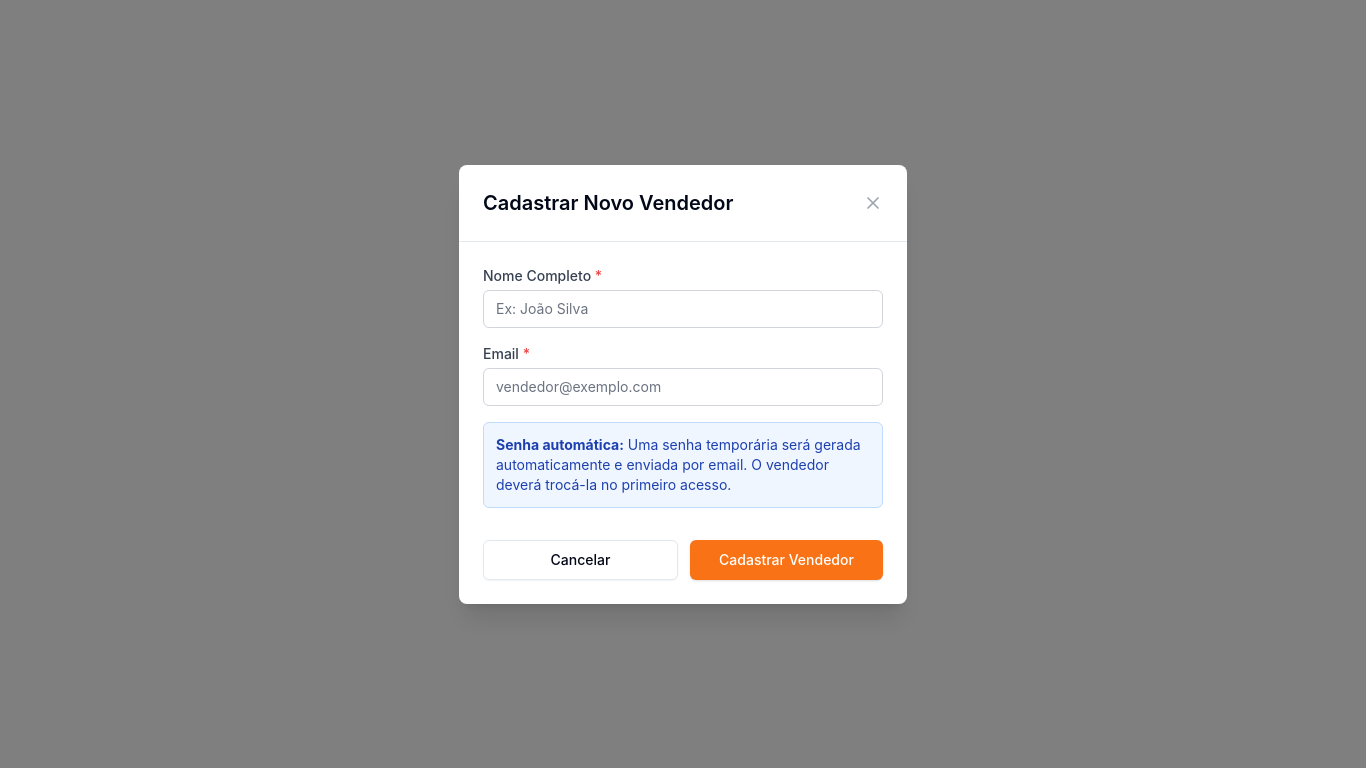
Scenario: VendedorForm › deve exibir erro quando nome tem menos de 2 caracteres
This screenshot has width=1366, height=768.
Type "A" into the field labelled "Nome Completo *". click: point(683, 308)
box: [483,290,883,328]
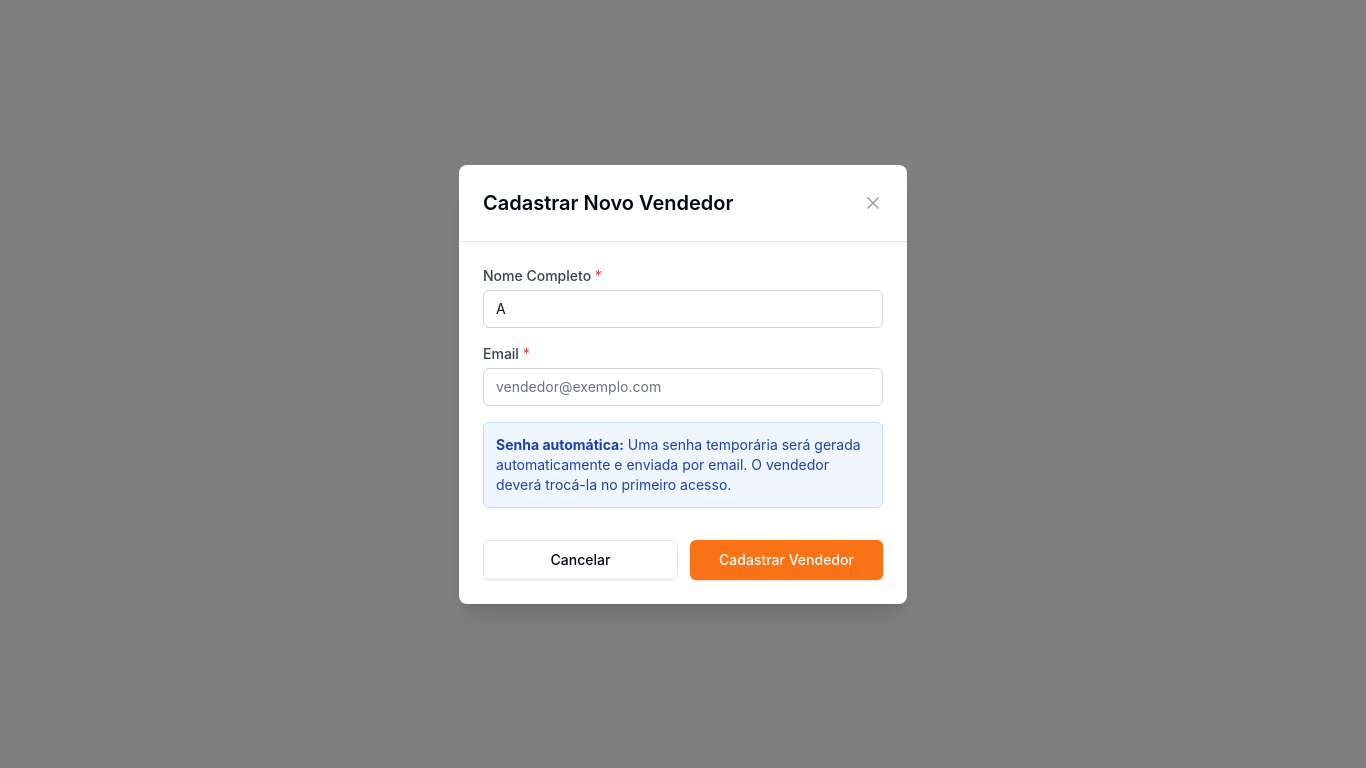
Submit the form named "Cadastrar Vendedor", box [459,242,907,604]
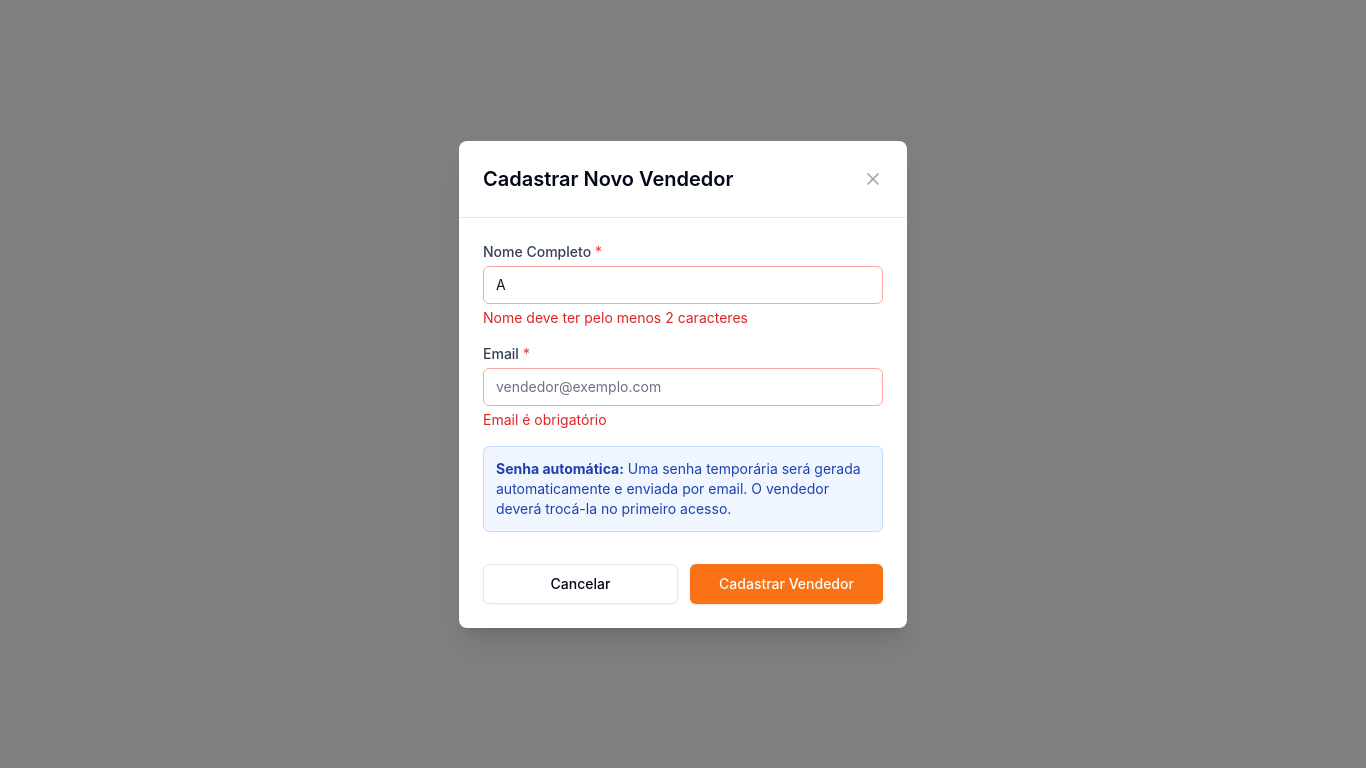
expect the text "Nome deve ter pelo menos 2 caracteres" is shown: met, box [483,308,748,326]
